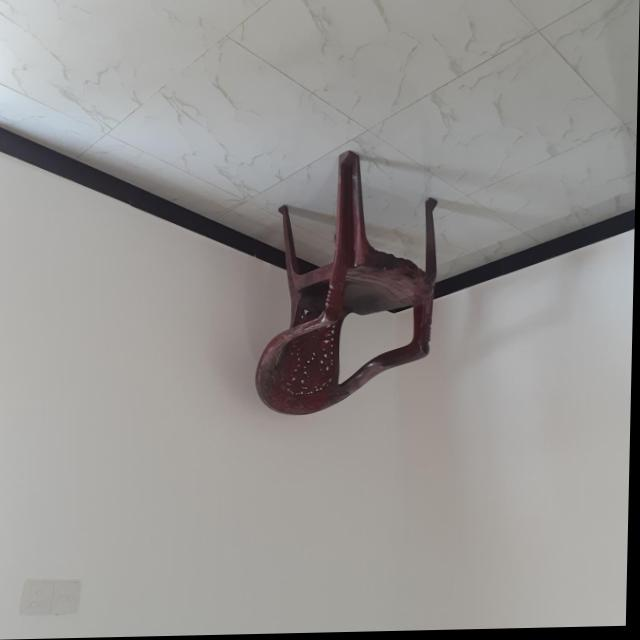Chair: (257, 149, 441, 419)
